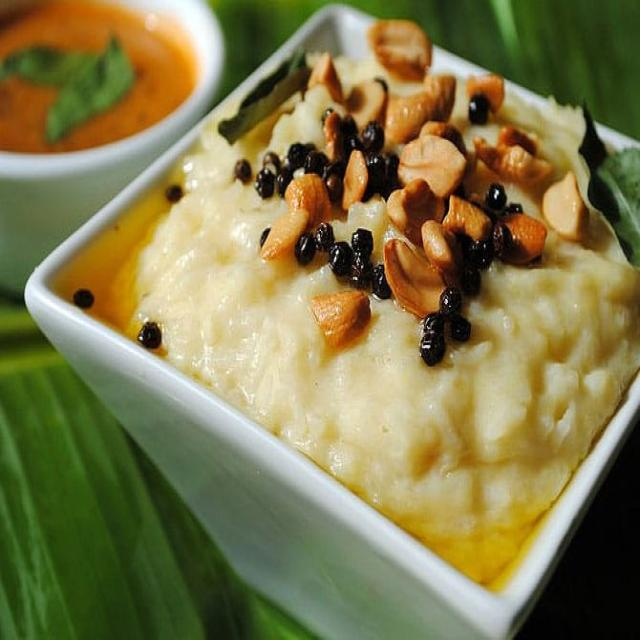khara pongal: (97, 14, 640, 592)
